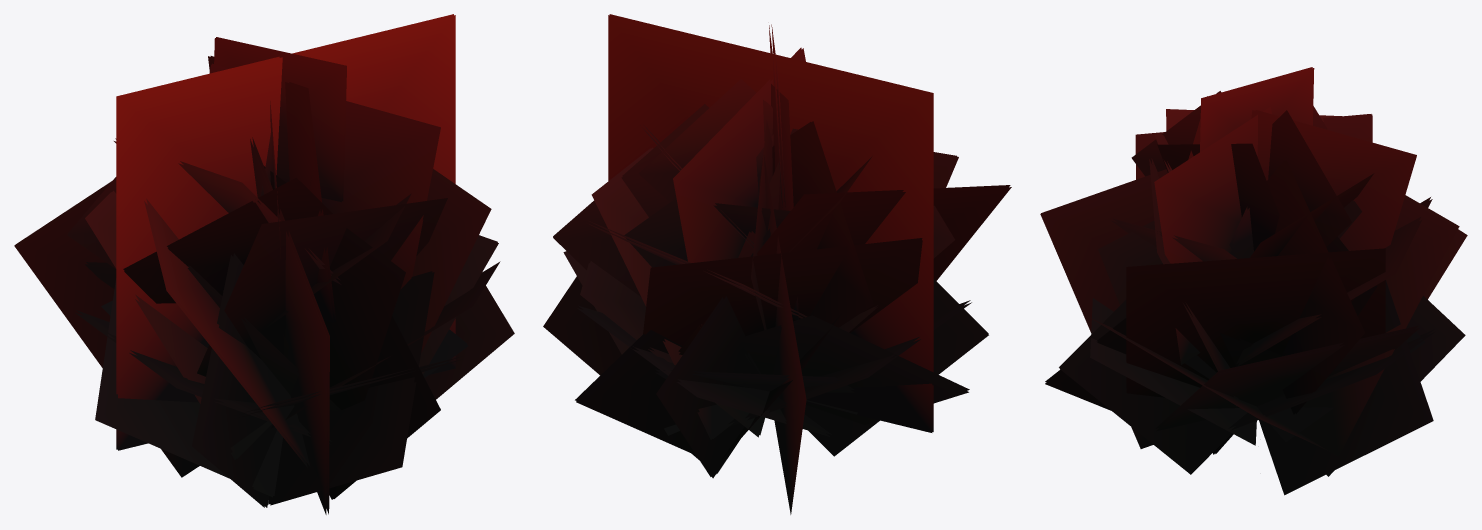
The model's file is Bush06_AFS_high.FBX.
3 views of the same model, side by side, from view 1: azimuth 30°, elevation 25°; view 2: azimuth 150°, elevation 25°; view 3: azimuth 270°, elevation 25° (orthographic). The views are drawn at different scales.
Visible parts, largest first — view 1: Bush06_AFS_high; view 2: Bush06_AFS_high; view 3: Bush06_AFS_high.
Boxes of the visible parts, x1,y1,x2,y2 form: Bush06_AFS_high: (14, 14, 514, 514); Bush06_AFS_high: (543, 14, 1011, 514); Bush06_AFS_high: (1040, 67, 1467, 495).
Bounding box in the file's own units: 0.6941 × 0.6937 × 0.6572.
